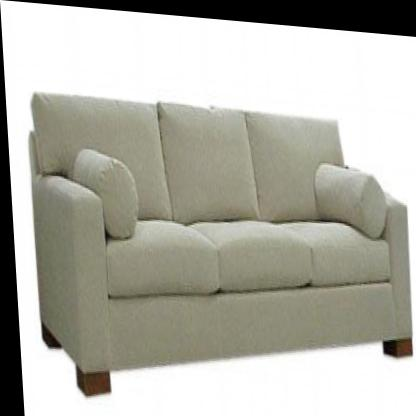Sofa: (24, 76, 416, 416)
